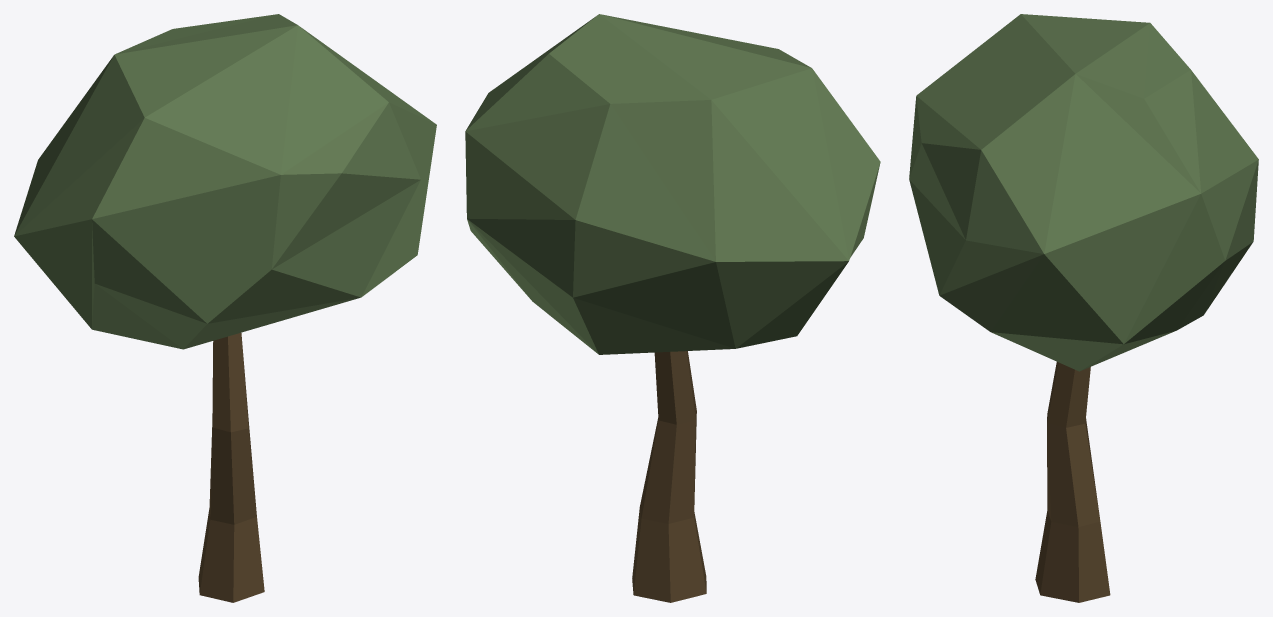
File: green tree 2.fbx
The picture shows the model from 3 angles, left to right: view 1: azimuth 30°, elevation 25°; view 2: azimuth 150°, elevation 25°; view 3: azimuth 270°, elevation 25°; orthographic projection. The views are drawn at different scales.
Parts seen in each view (by area): view 1: pCube1, pCylinder1; view 2: pCube1, pCylinder1; view 3: pCube1, pCylinder1.
Part boxes in pixels (x1=…): pCube1: x1=14, y1=14, x2=436, y2=349; pCylinder1: x1=198, y1=333, x2=264, y2=602; pCube1: x1=465, y1=14, x2=880, y2=354; pCylinder1: x1=632, y1=351, x2=706, y2=602; pCube1: x1=909, y1=14, x2=1258, y2=371; pCylinder1: x1=1035, y1=362, x2=1110, y2=602.
Bounding box in the file's own units: 12.03 × 16.11 × 9.33.
